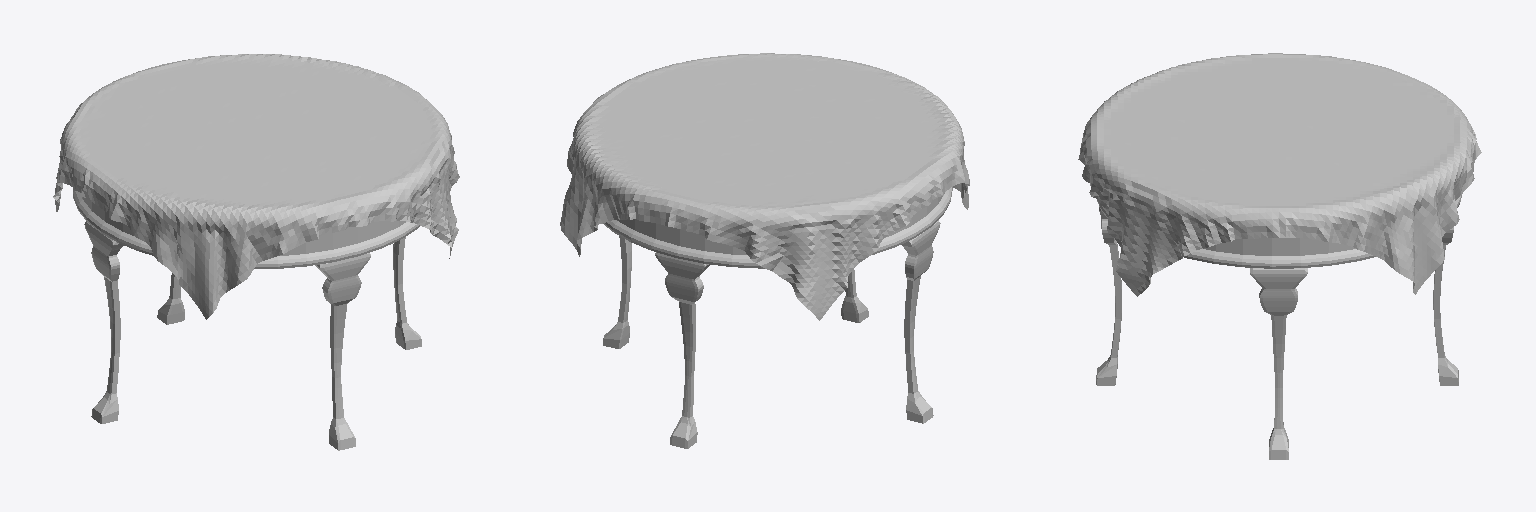
File: SpeakeasyTable.obj
3 renders of one model, left to right at view 1: azimuth 30°, elevation 25°; view 2: azimuth 150°, elevation 25°; view 3: azimuth 270°, elevation 25°, orthographic.
Parts seen in each view (by area): view 1: Cube.002; view 2: Cube.002; view 3: Cube.002.
Boxes of the visible parts, x1=… form: Cube.002: x1=53, y1=54, x2=459, y2=450; Cube.002: x1=560, y1=53, x2=969, y2=448; Cube.002: x1=1078, y1=53, x2=1481, y2=459.
Size of the model in its own units: 1.31 by 0.897 by 1.31.